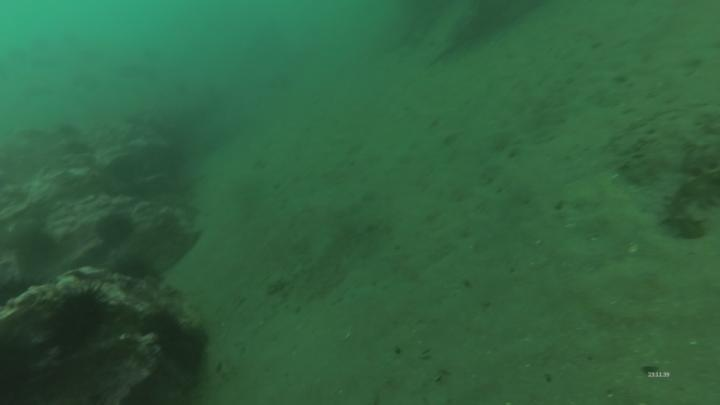echinus: (51, 279, 117, 345), (12, 223, 58, 271), (93, 213, 137, 249)
holothurian: (660, 172, 719, 239)
